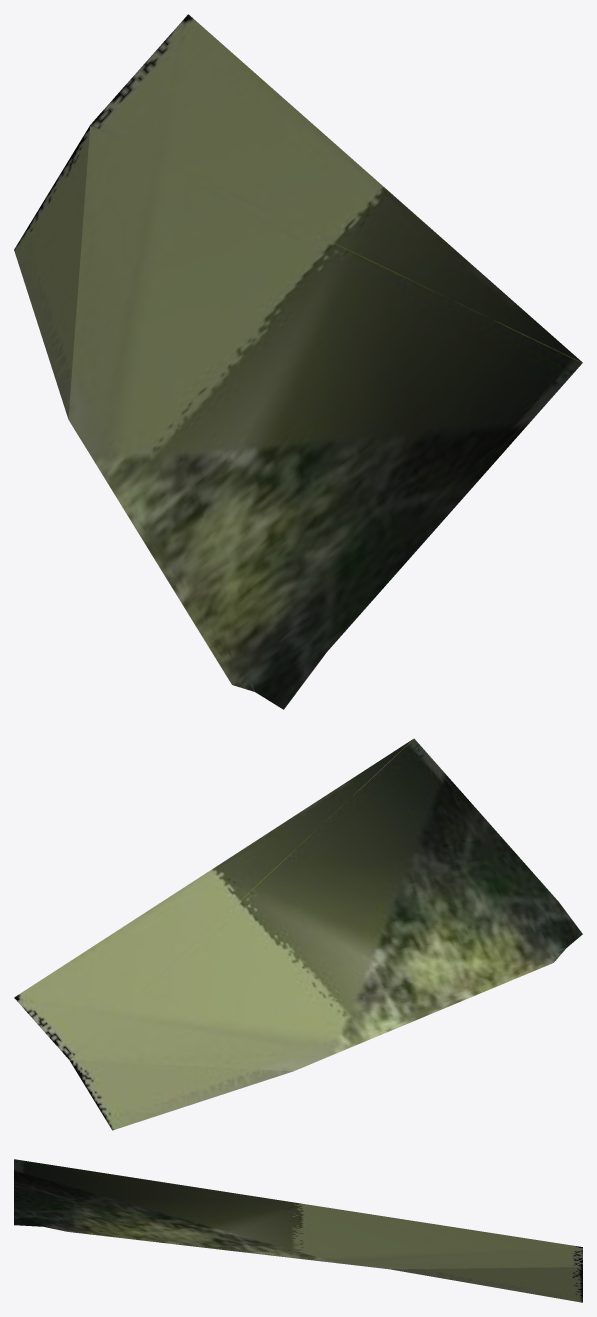
3 renders of one model, top to bottom at view 1: azimuth 30°, elevation 25°; view 2: azimuth 150°, elevation 25°; view 3: azimuth 270°, elevation 25°, orthographic. The views are drawn at different scales.
Size of the model in its own units: 2.82 by 1.69 by 5.9.
1 material, 1 textured.
